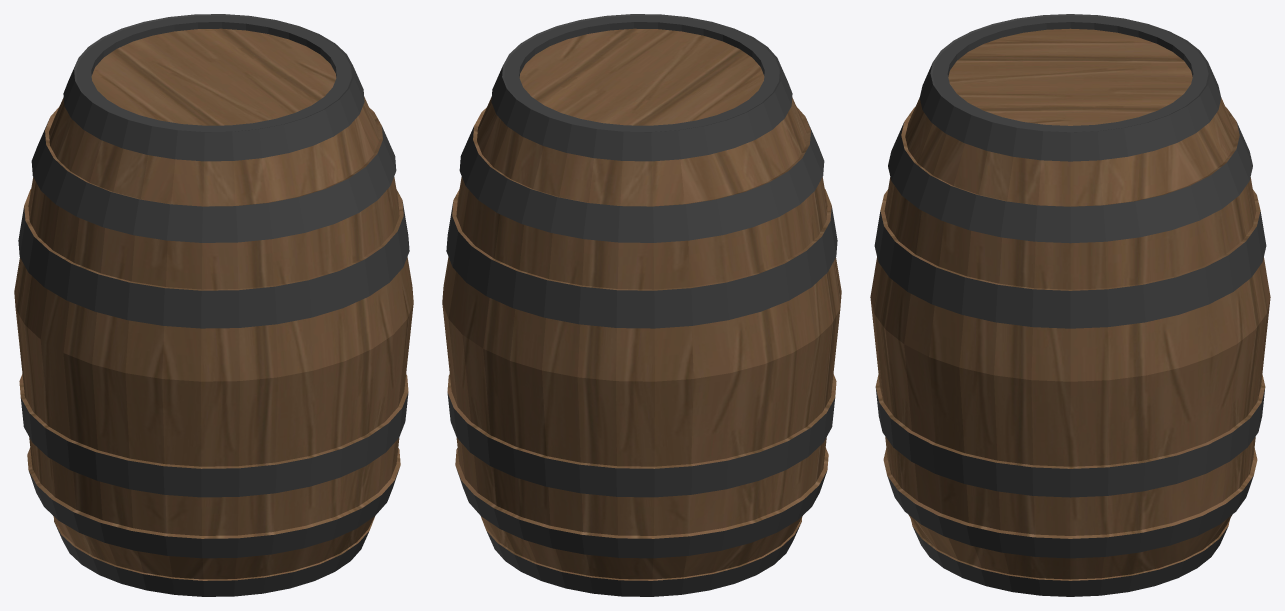
The model's file is barrel.glb.
3 views of the same model, side by side, from view 1: azimuth 30°, elevation 25°; view 2: azimuth 150°, elevation 25°; view 3: azimuth 270°, elevation 25° (orthographic).
Parts seen in each view (by area): view 1: Circle; view 2: Circle; view 3: Circle.
Boxes of the visible parts, left/top/right/bottom form: Circle: left=14, top=14, right=413, bottom=596; Circle: left=442, top=14, right=841, bottom=596; Circle: left=870, top=14, right=1270, bottom=596.
Bounding box in the file's own units: 2.66 × 3.36 × 2.66.
2 materials, 1 textured.
